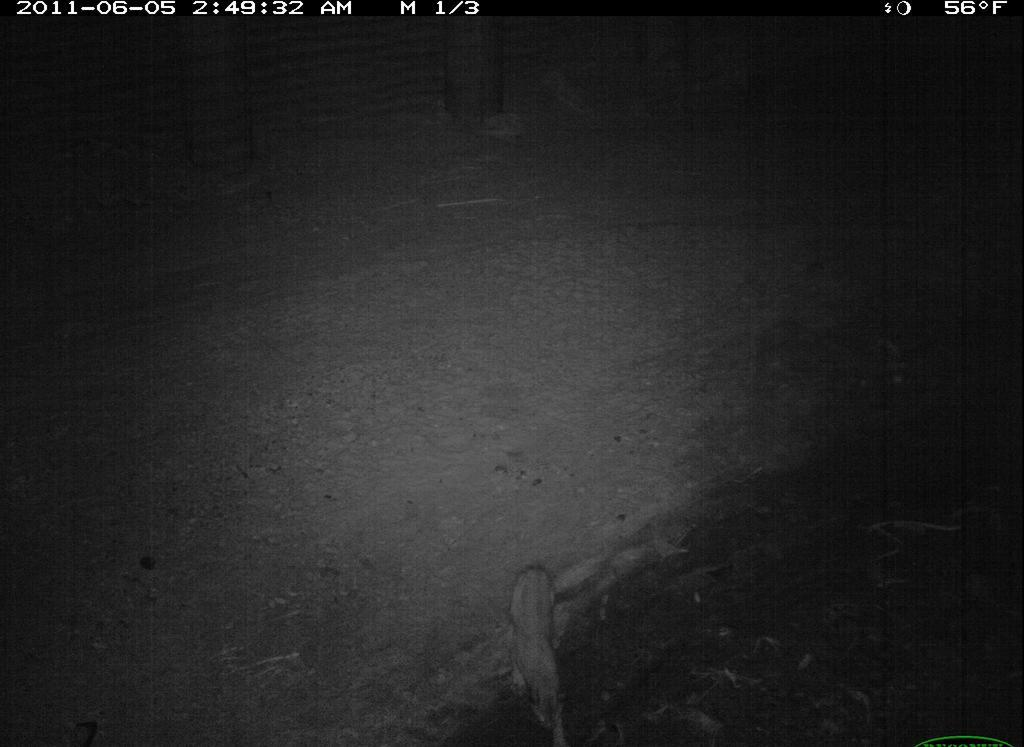bobcat: (502, 536, 583, 747)
